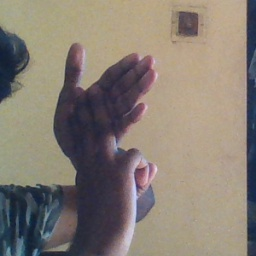M: (51, 40, 180, 213)
